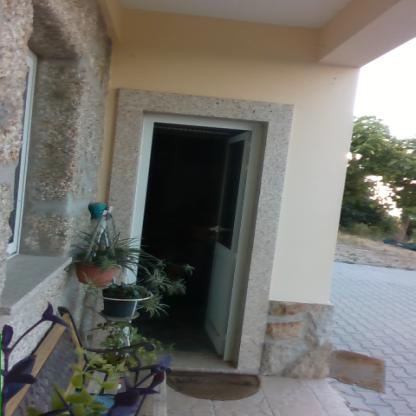open: (118, 110, 276, 386)
